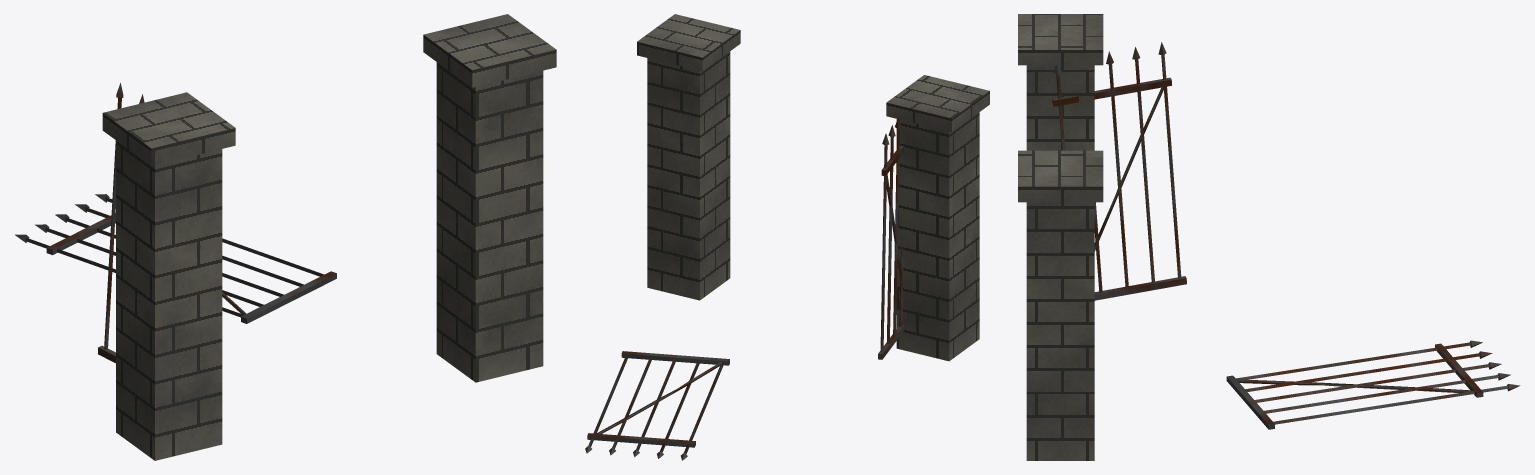
File: park_gate.glb
3 views of the same model, side by side, from view 1: azimuth 30°, elevation 25°; view 2: azimuth 150°, elevation 25°; view 3: azimuth 270°, elevation 25° (orthographic). The views are drawn at different scales.
Parts seen in each view (by area): view 1: pillars-col, detail; view 2: pillars-col, detail; view 3: pillars-col, detail.
Part boxes in pixels (x1,y1,x2,y2): pillars-col: [102, 14, 556, 460]; detail: [15, 83, 336, 363]; pillars-col: [637, 14, 989, 361]; detail: [585, 116, 903, 460]; pillars-col: [1018, 14, 1103, 460]; detail: [1052, 42, 1520, 429].
Size of what is drawn, in the model's own units: 2.4 by 1.8 by 2.95.
2 materials, 2 textured.
